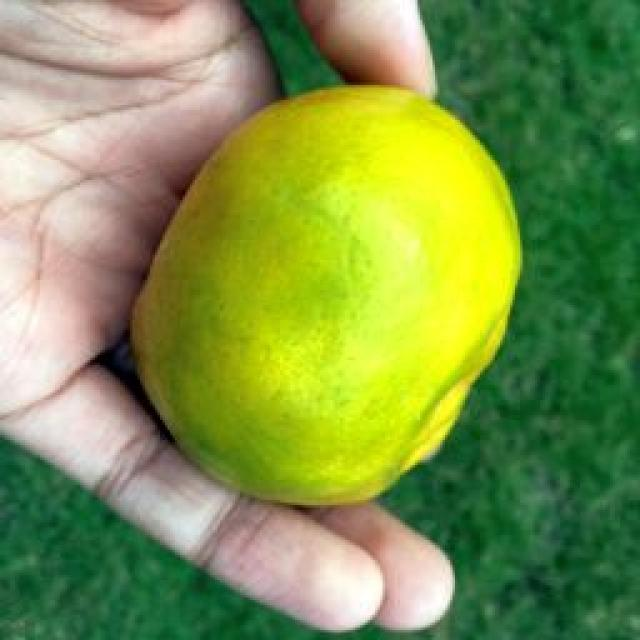lemon: (132, 88, 519, 503)
